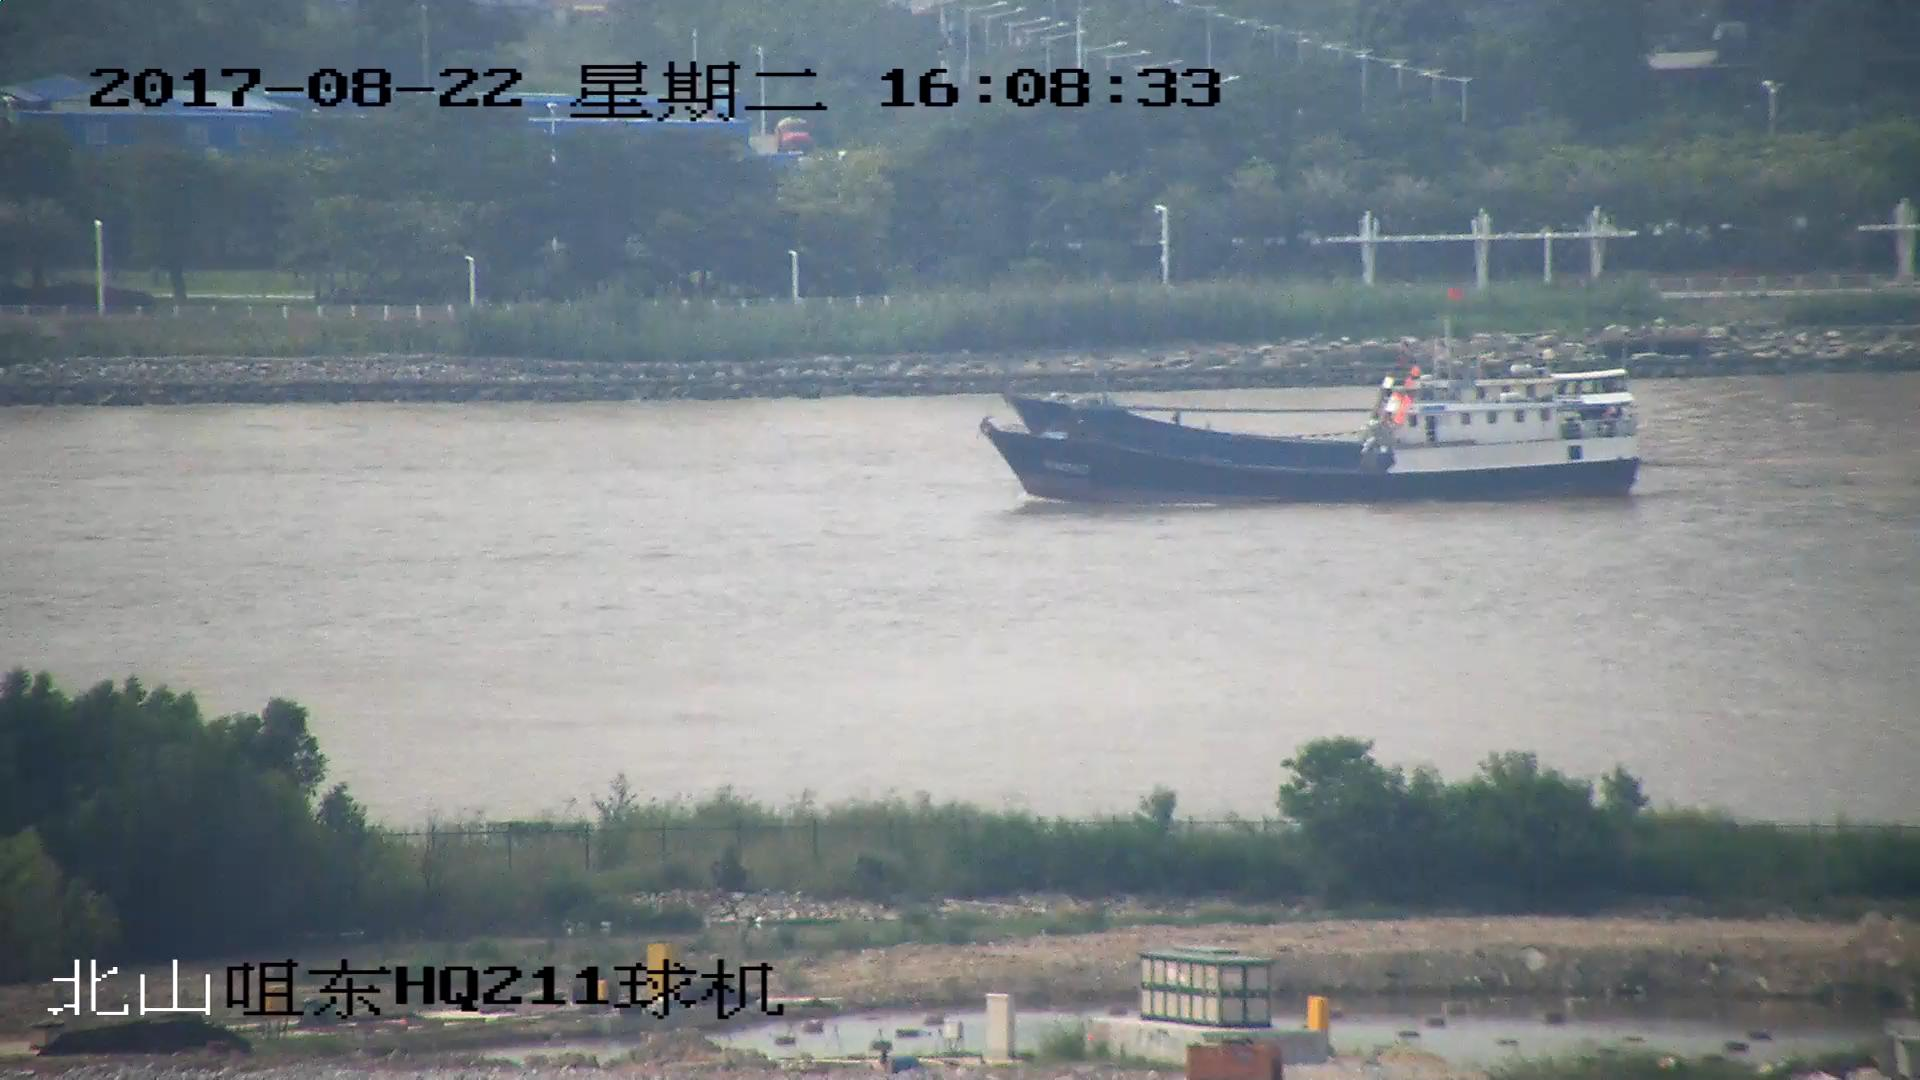fishing boat: (1012, 288, 1638, 465), (985, 390, 1635, 503)
